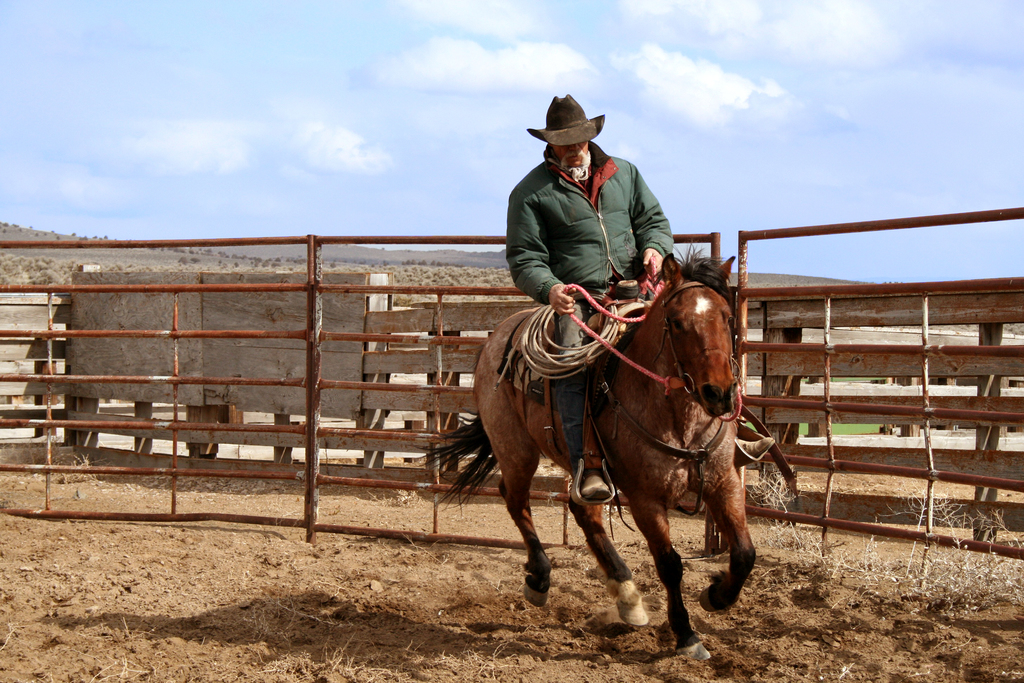horse: (413, 238, 756, 661)
